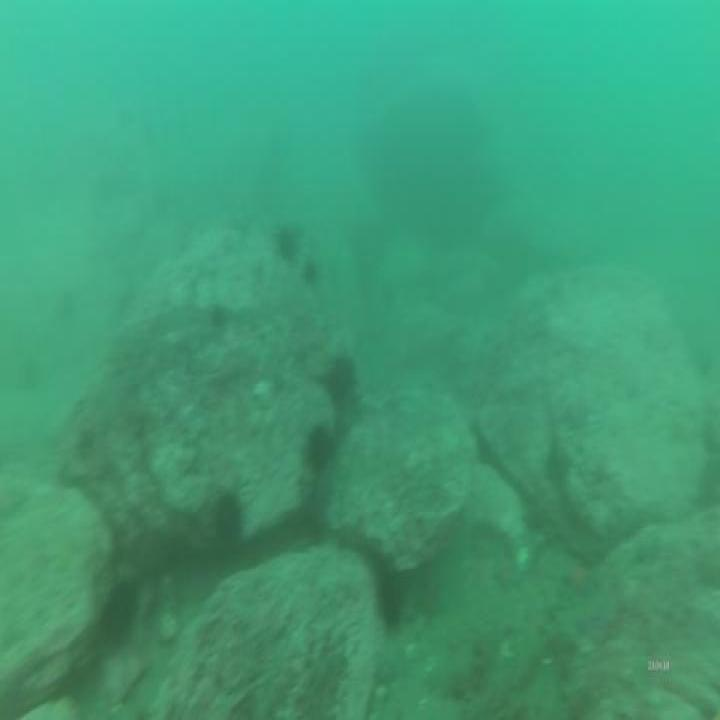echinus: (218, 491, 243, 553), (107, 589, 132, 647), (309, 425, 331, 466), (382, 578, 400, 620), (336, 357, 353, 400), (279, 226, 295, 263)
starfish: (564, 558, 592, 599), (637, 530, 664, 565)
